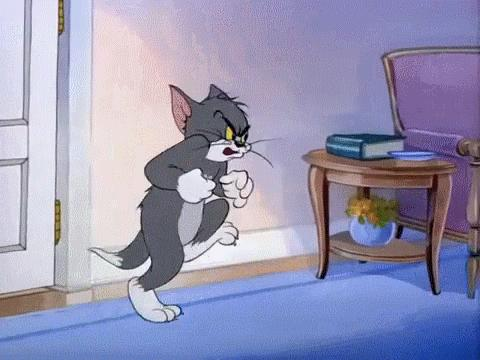tom: (87, 83, 257, 323)
